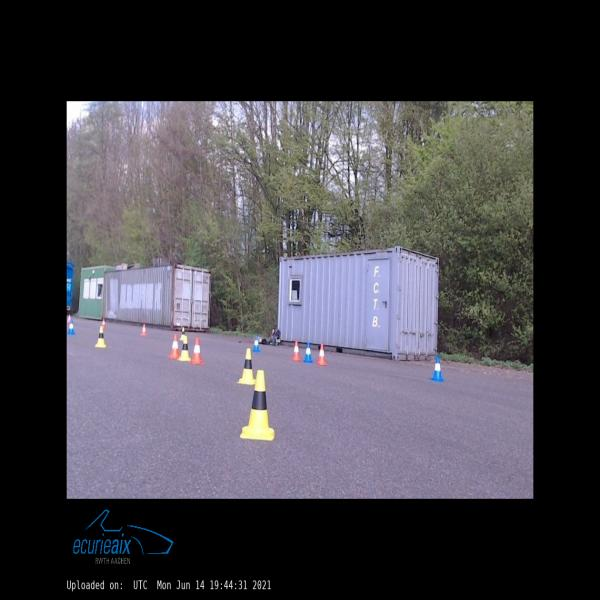blue_cone: (430, 356, 444, 382), (303, 343, 313, 363), (252, 336, 260, 352), (68, 318, 75, 334)
orange_cone: (189, 337, 203, 364), (169, 334, 181, 359), (291, 340, 301, 360), (317, 344, 327, 364), (141, 324, 147, 335), (102, 319, 107, 328), (68, 314, 70, 323)
yellow_cone: (240, 370, 274, 440), (237, 348, 256, 384), (179, 335, 191, 360), (95, 327, 106, 347), (180, 327, 184, 340)
